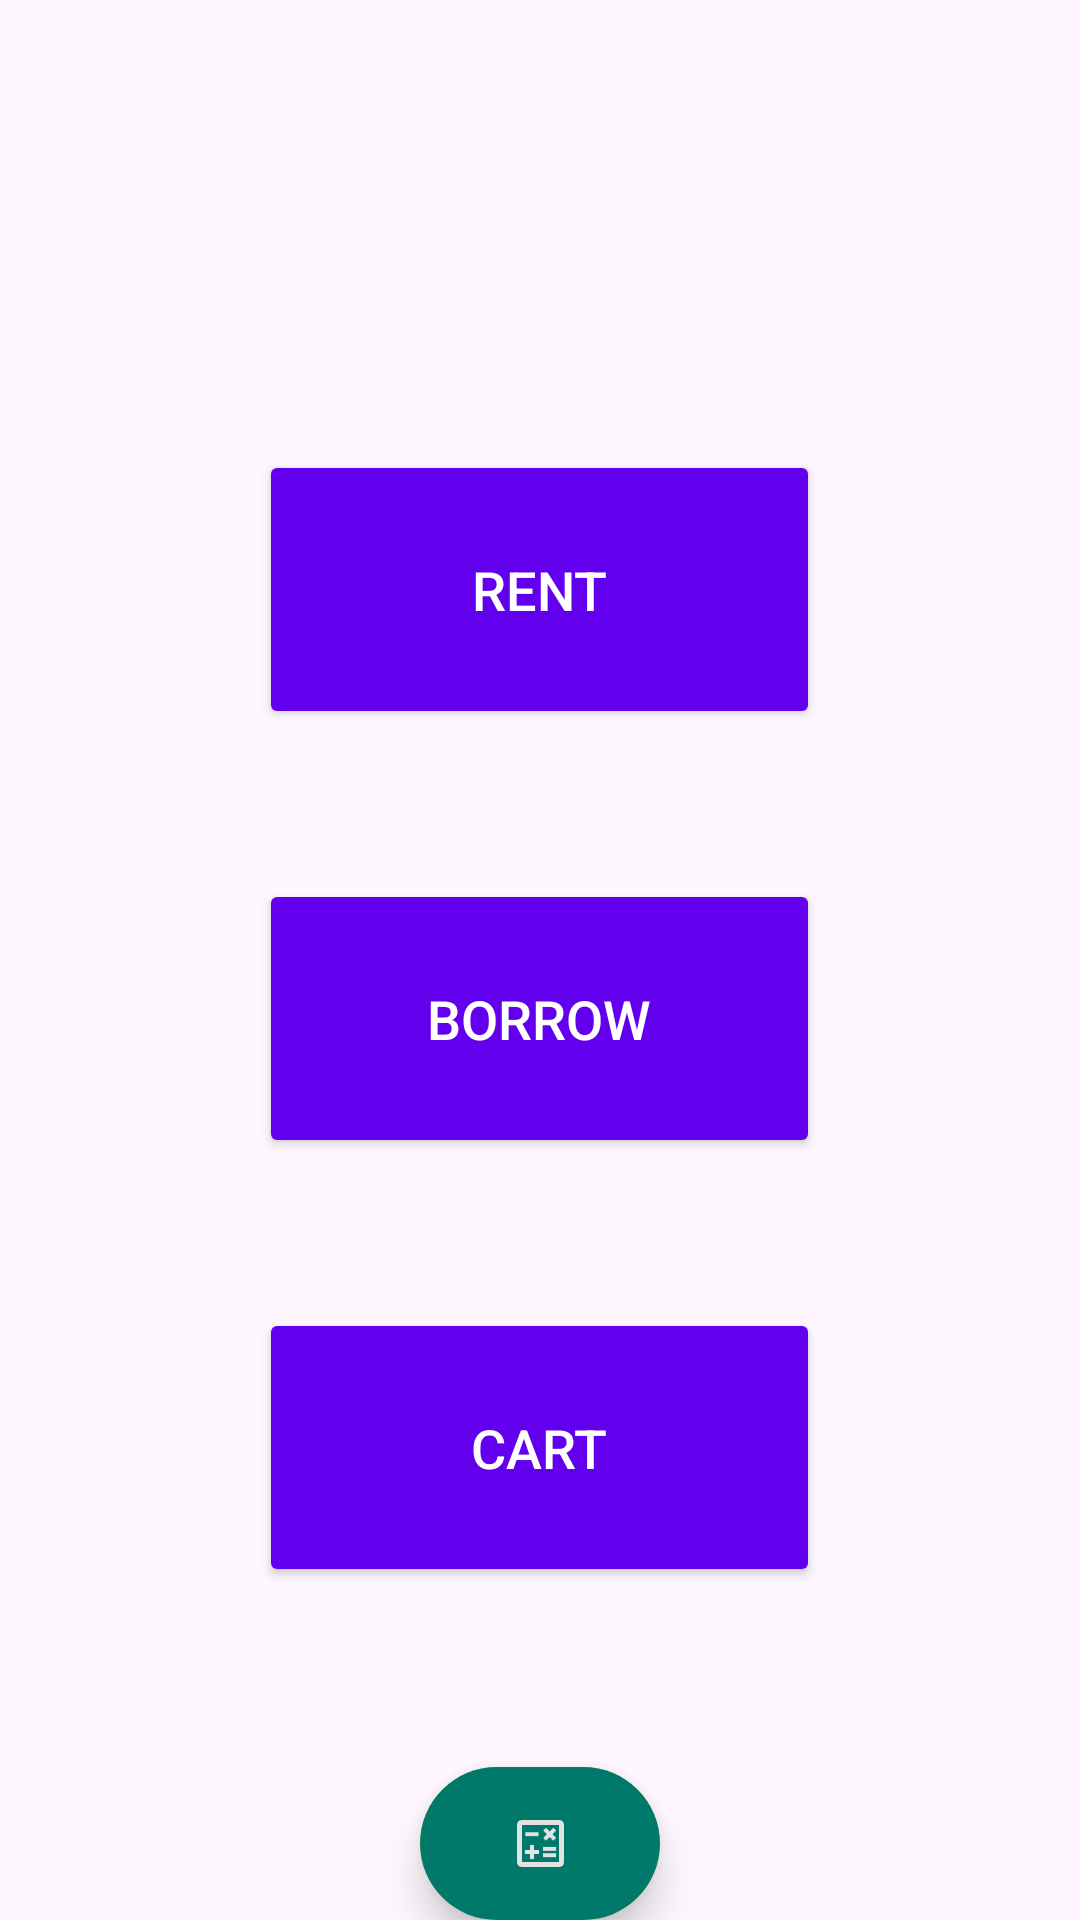

Named icons in this screenshot (1080*1920) and their bounding boxes, [x1,y1,x2,y2]:
Calculator: [420,1767,660,1920]
